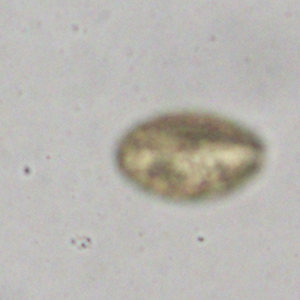Fasciola_hepatica_egg: (115, 108, 265, 201)
